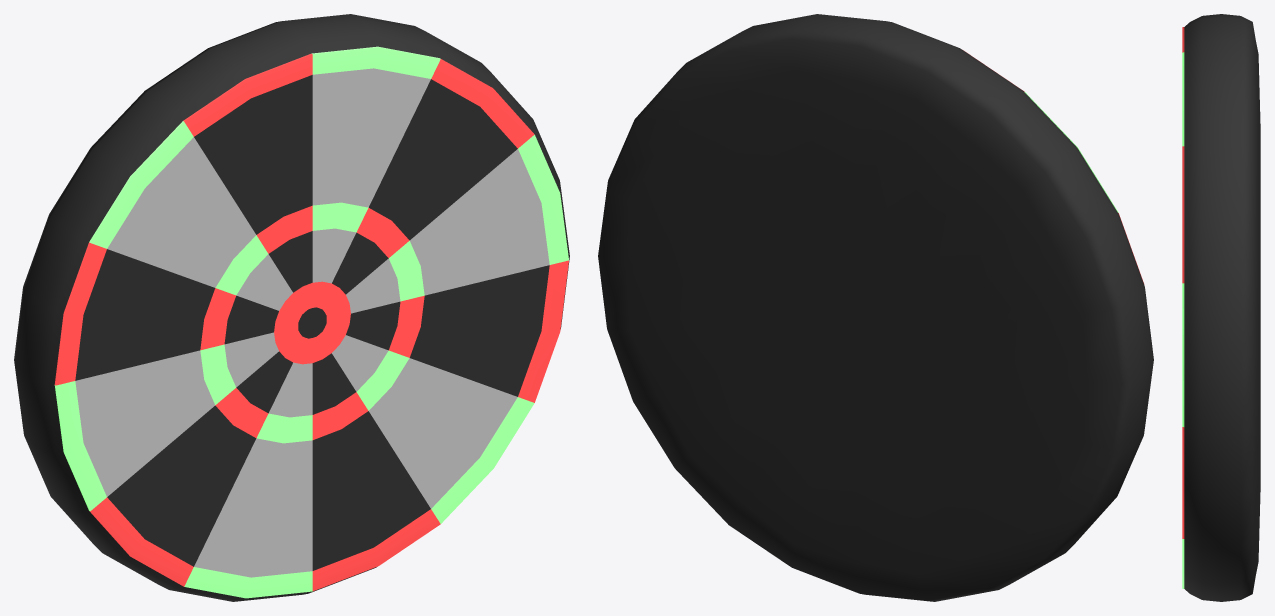
File: Dartboard.fbx
The picture shows the model from 3 angles, left to right: view 1: azimuth 30°, elevation 25°; view 2: azimuth 150°, elevation 25°; view 3: azimuth 270°, elevation 25°; orthographic projection. The views are drawn at different scales.
Visible parts, largest first — view 1: pasted__pCylinder1; view 2: pasted__pCylinder1; view 3: pasted__pCylinder1.
Part boxes in pixels (x1=…): pasted__pCylinder1: x1=14, y1=14, x2=569, y2=601; pasted__pCylinder1: x1=598, y1=14, x2=1153, y2=601; pasted__pCylinder1: x1=1182, y1=14, x2=1260, y2=601.
Bounding box in the file's own units: 26.18 × 26.18 × 3.46.
